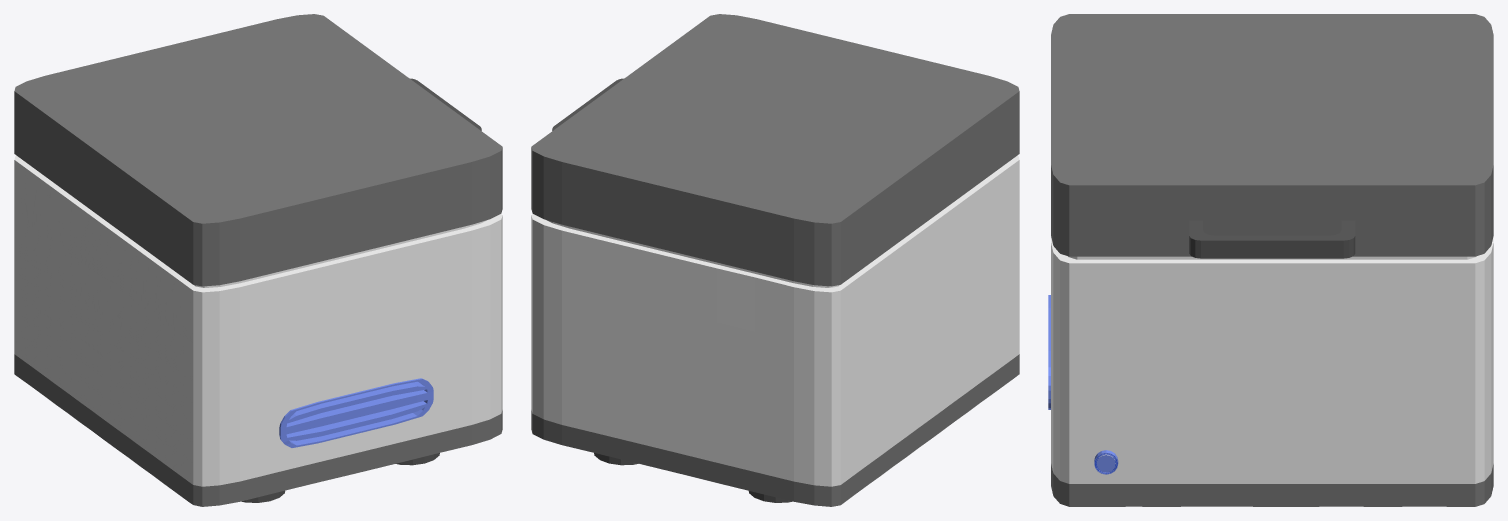
Rendered from Spawner_Interacted.fbx.
3 renders of one model, left to right at view 1: azimuth 30°, elevation 25°; view 2: azimuth 150°, elevation 25°; view 3: azimuth 270°, elevation 25°, orthographic. The views are drawn at different scales.
Visible parts, largest first — view 1: Cube; view 2: Cube; view 3: Cube.
Boxes of the visible parts, x1=… form: Cube: x1=14, y1=14, x2=502, y2=506; Cube: x1=531, y1=14, x2=1019, y2=506; Cube: x1=1048, y1=14, x2=1493, y2=506.
Size of the model in its own units: 223 by 184 by 220.
